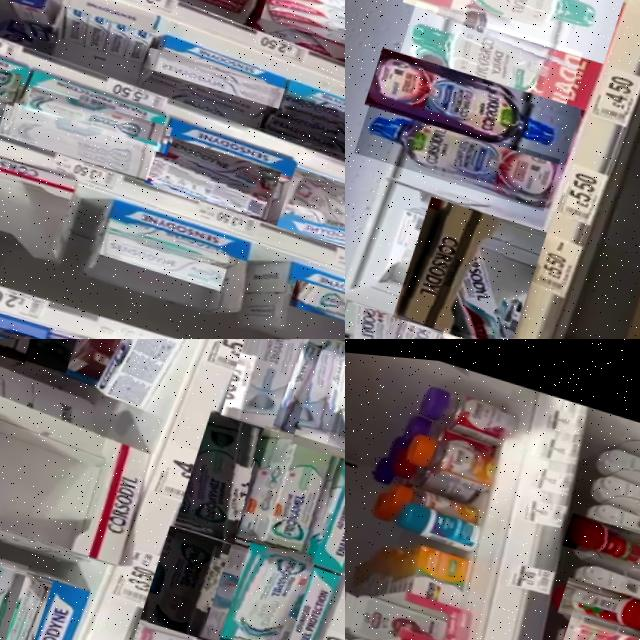Other: (368, 44, 592, 160), (359, 97, 572, 206), (409, 373, 532, 449), (345, 567, 464, 640), (403, 416, 517, 489), (396, 485, 500, 552), (407, 530, 480, 611), (384, 469, 485, 523), (560, 565, 640, 627), (564, 501, 640, 563), (345, 615, 474, 640), (566, 599, 640, 640)
Toothpaste: (402, 191, 558, 339), (231, 415, 345, 564), (179, 401, 277, 537), (1, 96, 168, 174), (150, 127, 291, 212), (29, 77, 182, 147), (147, 519, 239, 632), (226, 534, 321, 640), (147, 41, 293, 101), (88, 339, 201, 414), (222, 339, 314, 426), (107, 226, 239, 284), (274, 339, 345, 436), (293, 339, 345, 458), (264, 81, 345, 155), (282, 157, 345, 252), (0, 560, 61, 640), (0, 538, 36, 640), (345, 298, 421, 339), (296, 269, 345, 331), (115, 612, 206, 640), (25, 339, 100, 371), (0, 34, 31, 102), (392, 316, 457, 339), (440, 322, 500, 339)
